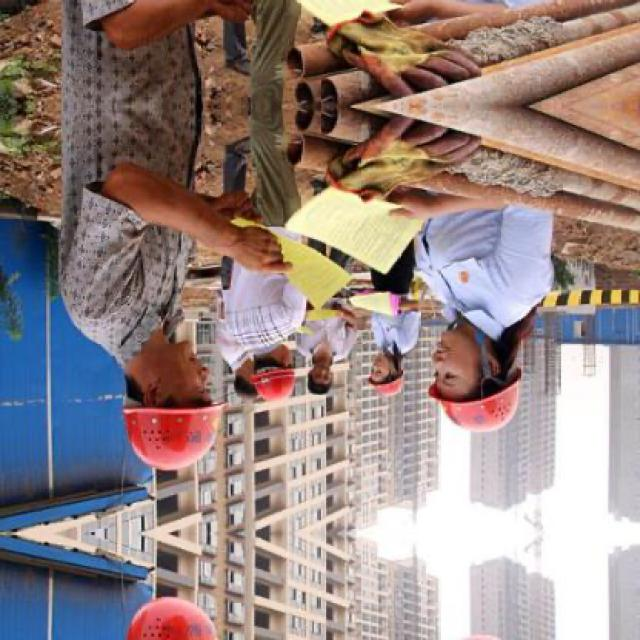con casco: (124, 329, 263, 481), (404, 348, 564, 458), (360, 353, 435, 418), (247, 360, 298, 418)
sin casco: (298, 358, 361, 412)
